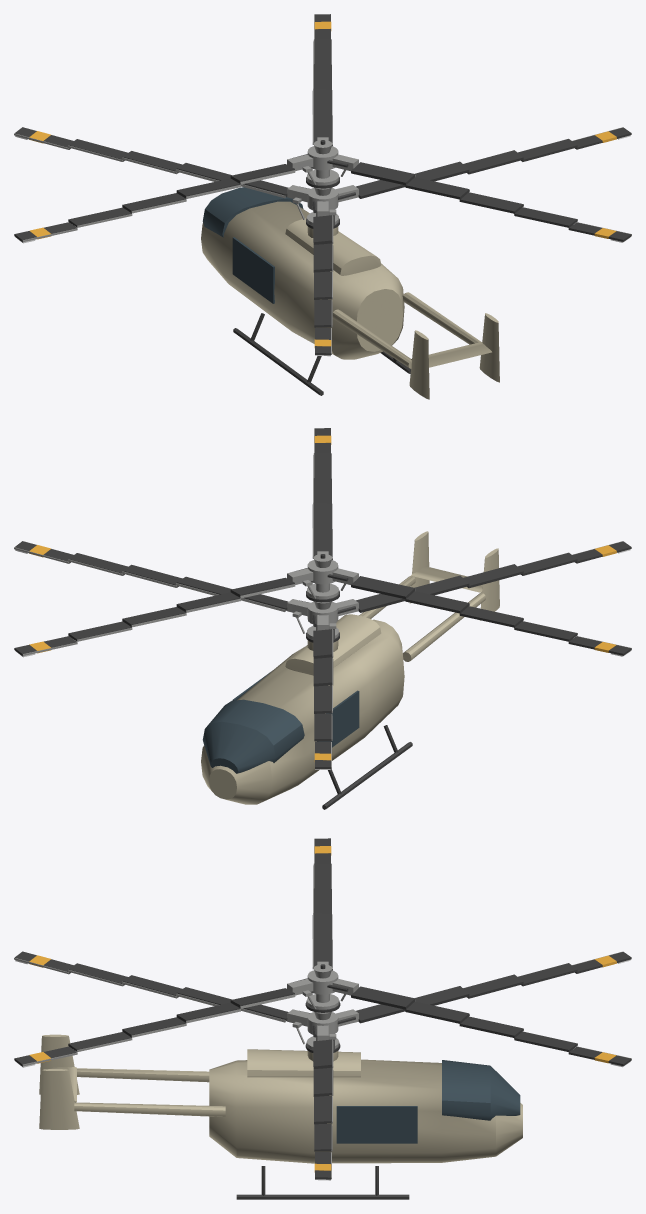
The model's file is rus_heli_ka226.glb.
3 views of the same model, one above another, from view 1: azimuth 30°, elevation 25°; view 2: azimuth 150°, elevation 25°; view 3: azimuth 270°, elevation 25° (orthographic).
Parts seen in each view (by area): view 1: body, trotor, rotor; view 2: body, trotor, rotor; view 3: body, trotor, rotor.
Boxes of the visible parts, box(x1,y1,x2,y2) form: body: box(201, 169, 499, 399); trotor: box(14, 14, 631, 243); rotor: box(14, 127, 631, 356); body: box(201, 531, 499, 809); trotor: box(14, 428, 631, 657); rotor: box(14, 541, 631, 769); body: box(39, 994, 522, 1199); trotor: box(14, 838, 631, 1067); rotor: box(14, 951, 631, 1180).
Size of the model in its own units: 13.01 by 4.34 by 11.43.
